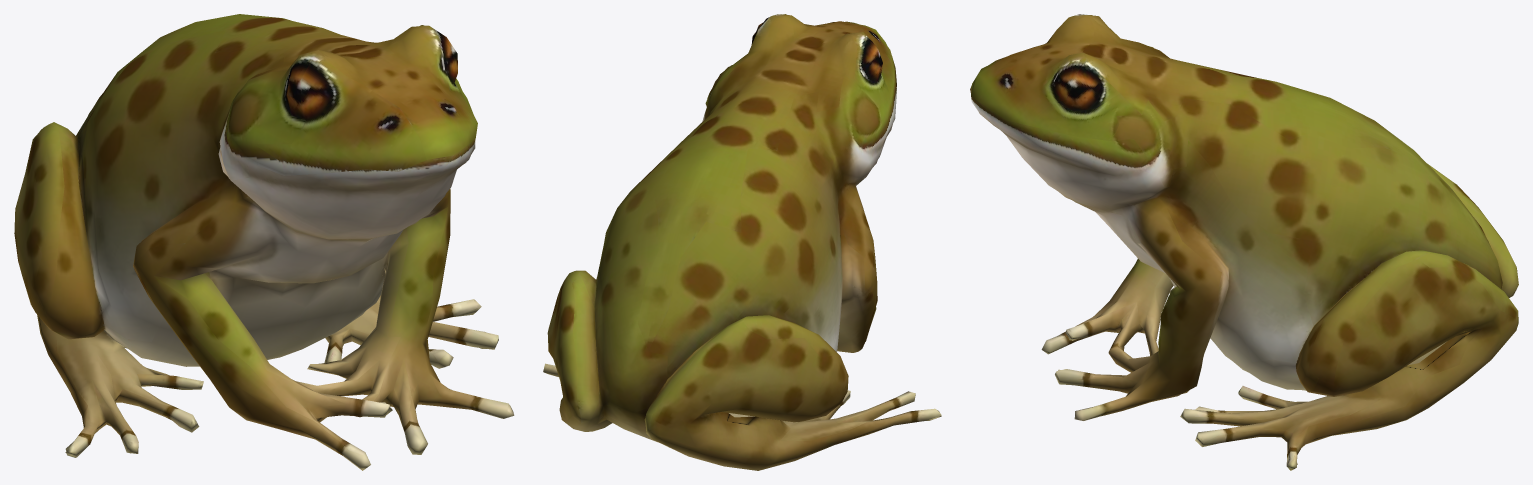
The model's file is frog_3d.glb.
The picture shows the model from 3 angles, left to right: view 1: azimuth 30°, elevation 25°; view 2: azimuth 150°, elevation 25°; view 3: azimuth 270°, elevation 25°; orthographic projection. The views are drawn at different scales.
Parts seen in each view (by area): view 1: world; view 2: world; view 3: world.
Boxes of the visible parts, box(x1,y1,x2,y2) form: world: box(14, 14, 514, 470); world: box(543, 14, 941, 470); world: box(970, 14, 1518, 470).
Bounding box in the file's own units: 0.8003 × 0.6883 × 0.9939.
1 material, 1 textured.
